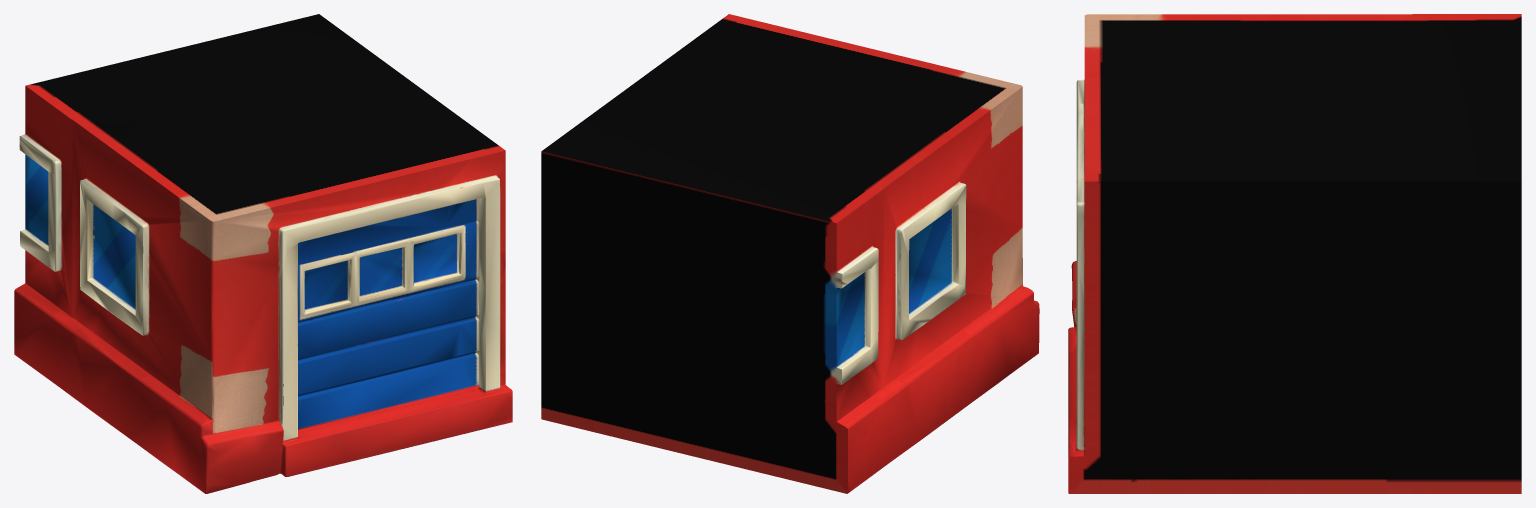
Rendered from 1-ground-floor-front-left.fbx.
3 views of the same model, side by side, from view 1: azimuth 30°, elevation 25°; view 2: azimuth 150°, elevation 25°; view 3: azimuth 270°, elevation 25° (orthographic). The views are drawn at different scales.
Visible parts, largest first — view 1: ground-floor-front-left; view 2: ground-floor-front-left; view 3: ground-floor-front-left.
Part boxes in pixels (box(x1,y1,x2,y2)): ground-floor-front-left: box(14, 14, 512, 493); ground-floor-front-left: box(541, 14, 1039, 493); ground-floor-front-left: box(1068, 14, 1521, 493).
Bounding box in the file's own units: 4289 × 3587 × 4716.
Materials: 1 (1 with a texture image).
